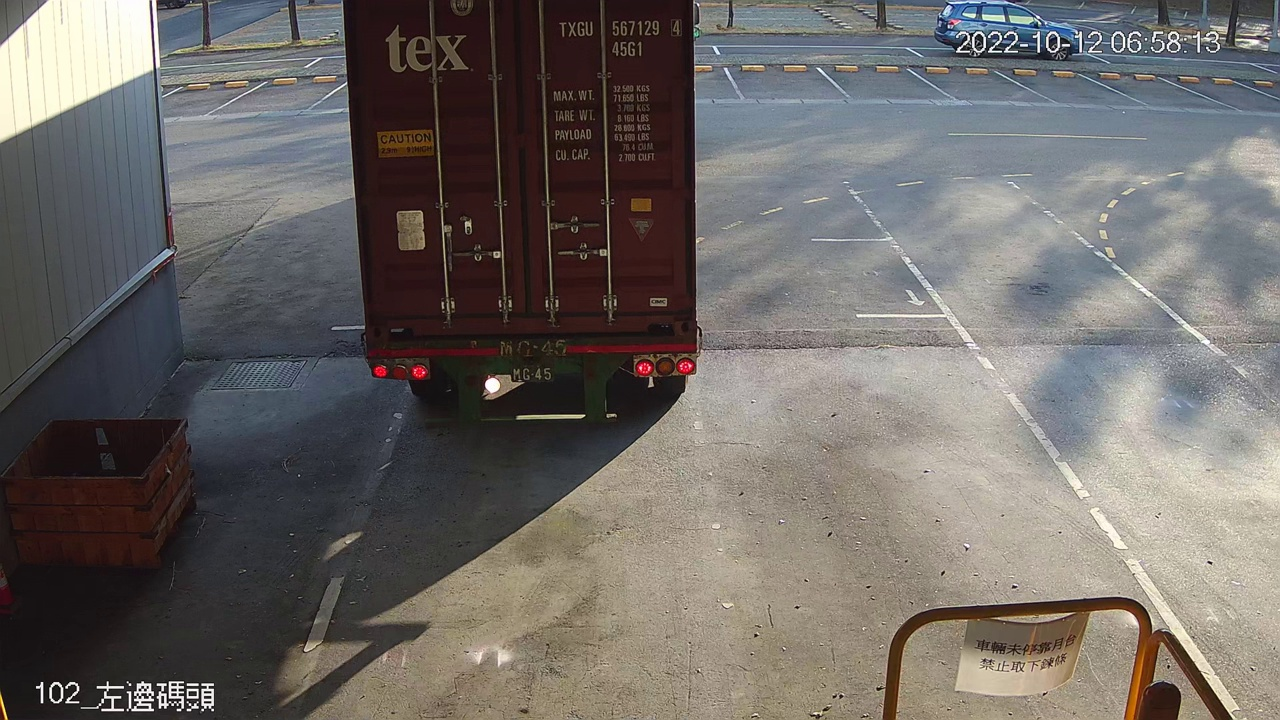container: (548, 15, 689, 63)
